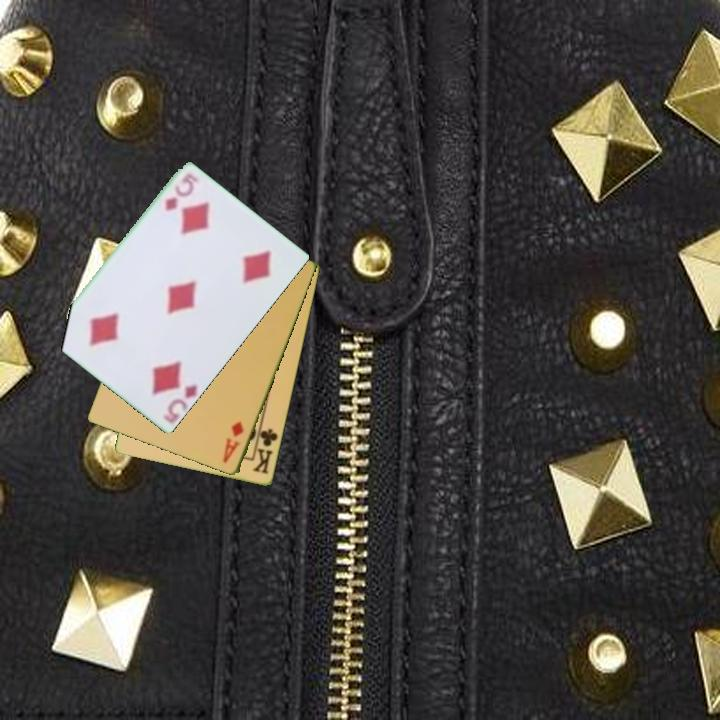5d: (162, 381, 200, 424), (162, 170, 199, 214)
Ad: (219, 418, 247, 466)
Kc: (249, 422, 281, 477)
